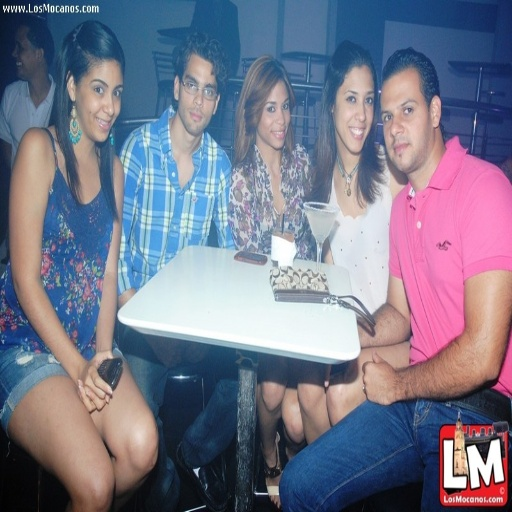hand: (361, 347, 400, 405), (76, 376, 115, 414), (151, 335, 184, 372), (321, 358, 353, 387), (183, 338, 212, 367)
